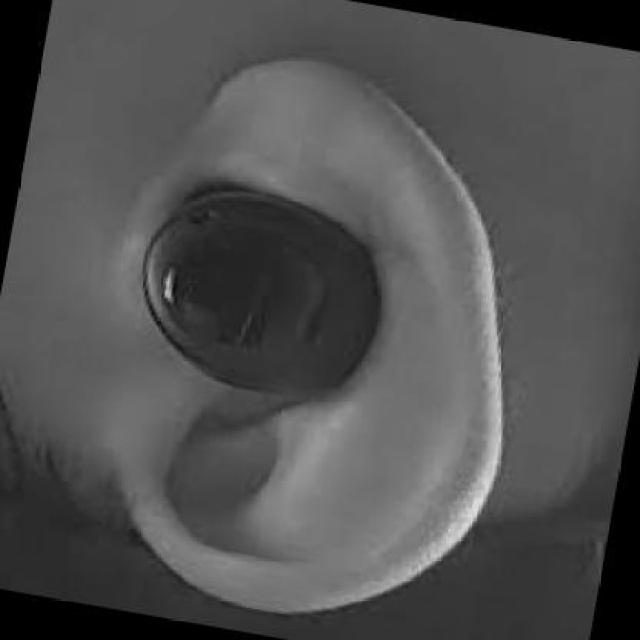earphone: (133, 130, 417, 393)
